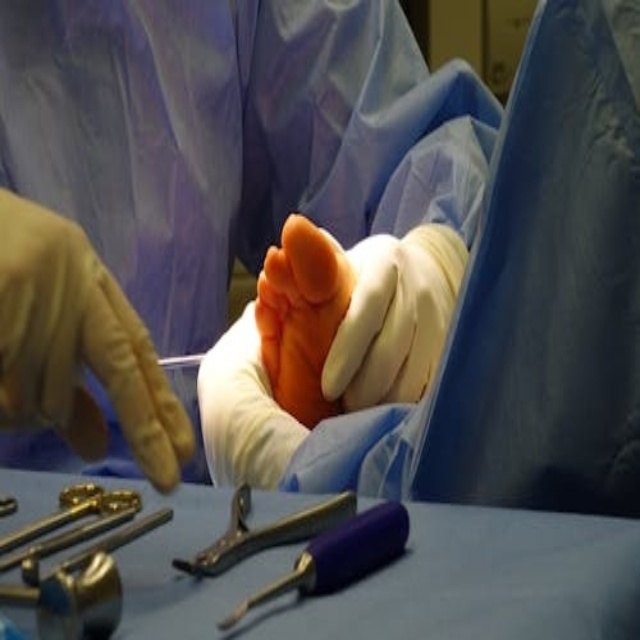Guantes: (1, 175, 196, 494), (321, 220, 468, 410), (198, 295, 313, 496)
